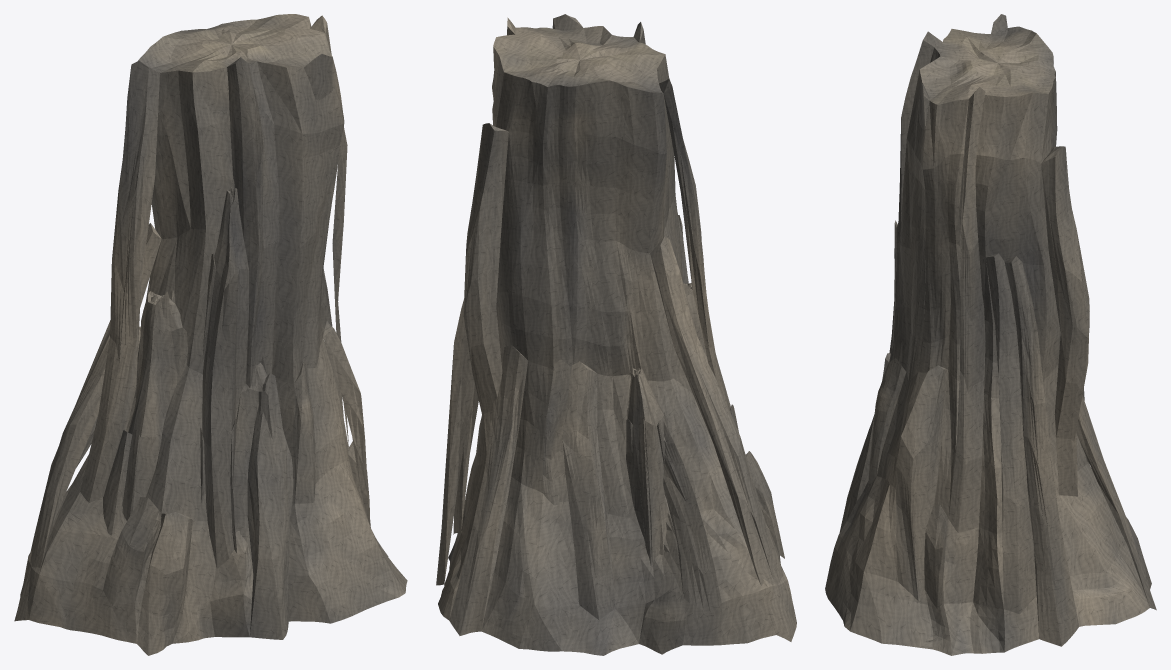
The picture shows the model from 3 angles, left to right: view 1: azimuth 30°, elevation 25°; view 2: azimuth 150°, elevation 25°; view 3: azimuth 270°, elevation 25°; orthographic projection.
Parts seen in each view (by area): view 1: F06_stone; view 2: F06_stone; view 3: F06_stone.
Part boxes in pixels (bbox=[...]): F06_stone: bbox=[14, 14, 407, 655]; F06_stone: bbox=[436, 14, 796, 655]; F06_stone: bbox=[825, 14, 1156, 655].
Size of the model in its own units: 16.26 by 24.82 by 13.43.
Materials: 1 (1 with a texture image).
